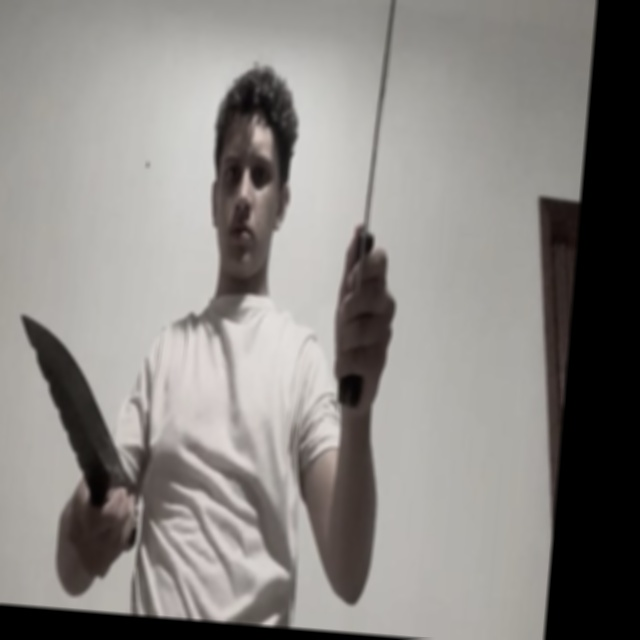Sharp-Object: (6, 309, 143, 487), (356, 0, 405, 287)
